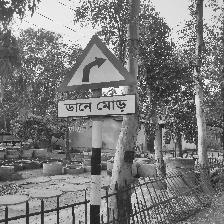Right-turn: (55, 36, 138, 120)
